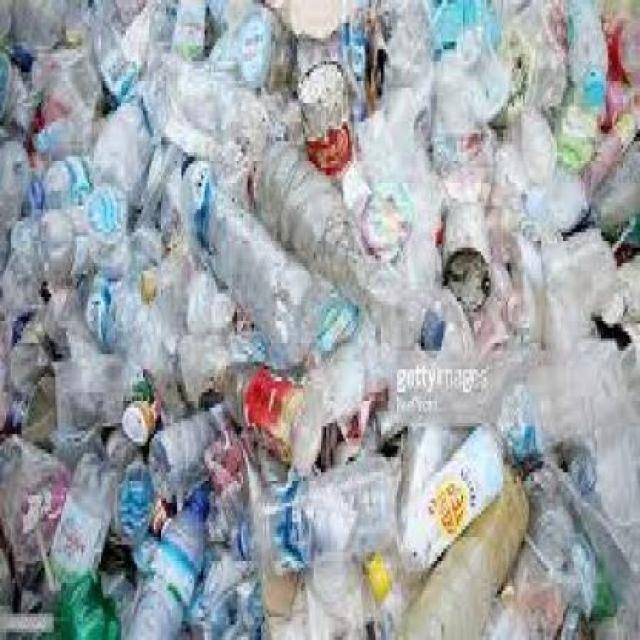garbage: (6, 15, 629, 616)
